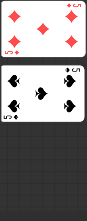5C: (64, 66, 82, 73)
